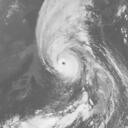cyclone: (52, 48, 80, 82)
